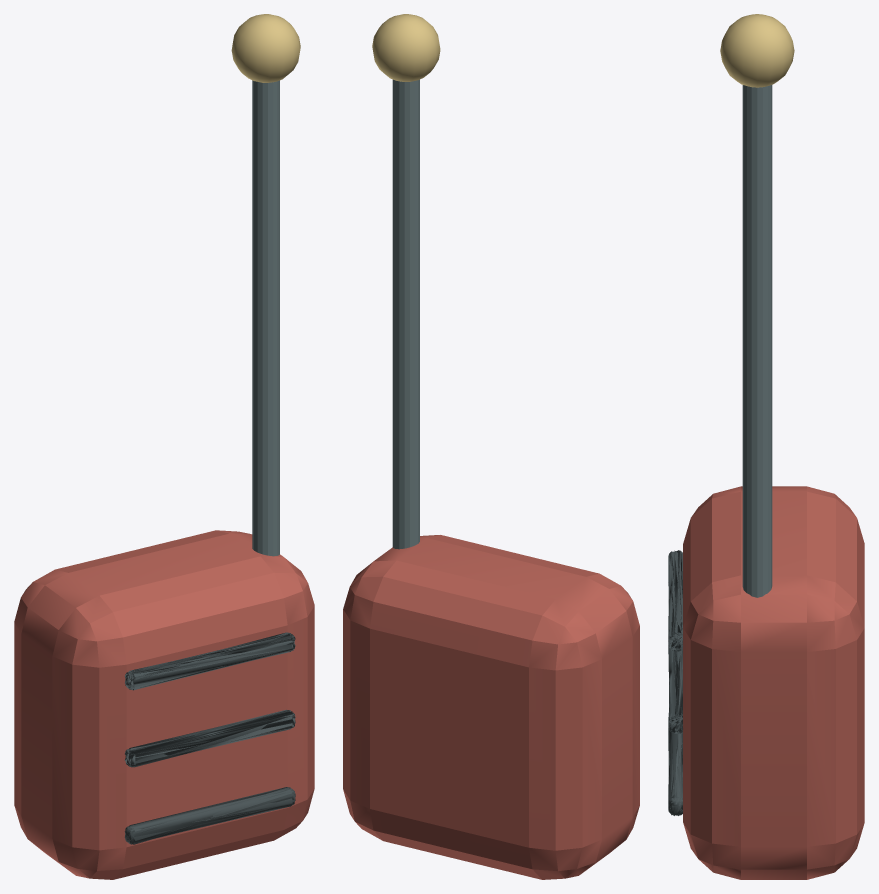
The model's file is kit_jammer.glb.
3 renders of one model, left to right at view 1: azimuth 30°, elevation 25°; view 2: azimuth 150°, elevation 25°; view 3: azimuth 270°, elevation 25°, orthographic. The views are drawn at different scales.
Parts seen in each view (by area): view 1: RadioPack, Aerial, AerialTip, RadioVent, RadioVent.001, RadioVent.002; view 2: RadioPack, Aerial, AerialTip; view 3: RadioPack, Aerial, AerialTip, RadioVent.002, RadioVent, RadioVent.001.
Boxes of the visible parts, x1,y1,x2,y2 form: RadioPack: (14, 530, 314, 879); Aerial: (252, 80, 279, 556); AerialTip: (231, 14, 300, 82); RadioVent: (124, 787, 295, 844); RadioVent.001: (124, 709, 295, 767); RadioVent.002: (124, 632, 295, 690); RadioPack: (343, 535, 639, 879); Aerial: (392, 79, 419, 549); AerialTip: (372, 14, 440, 81); RadioPack: (683, 486, 864, 879); Aerial: (742, 85, 772, 597); AerialTip: (720, 14, 794, 87); RadioVent.002: (668, 550, 683, 651); RadioVent: (668, 728, 683, 815); RadioVent.001: (668, 645, 683, 733).
Bounding box in the file's own units: 0.38 × 1.16 × 0.238.
